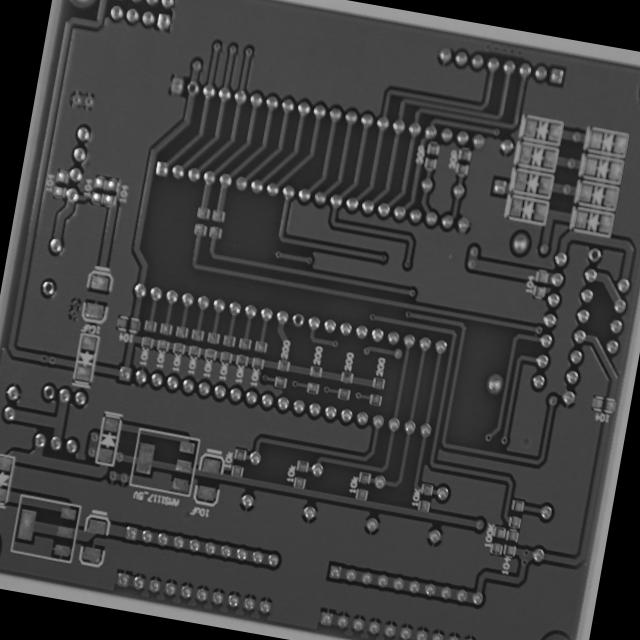missing_hole: (184, 78, 201, 97), (290, 310, 306, 329), (586, 245, 602, 264), (41, 382, 56, 402), (40, 280, 56, 298)
